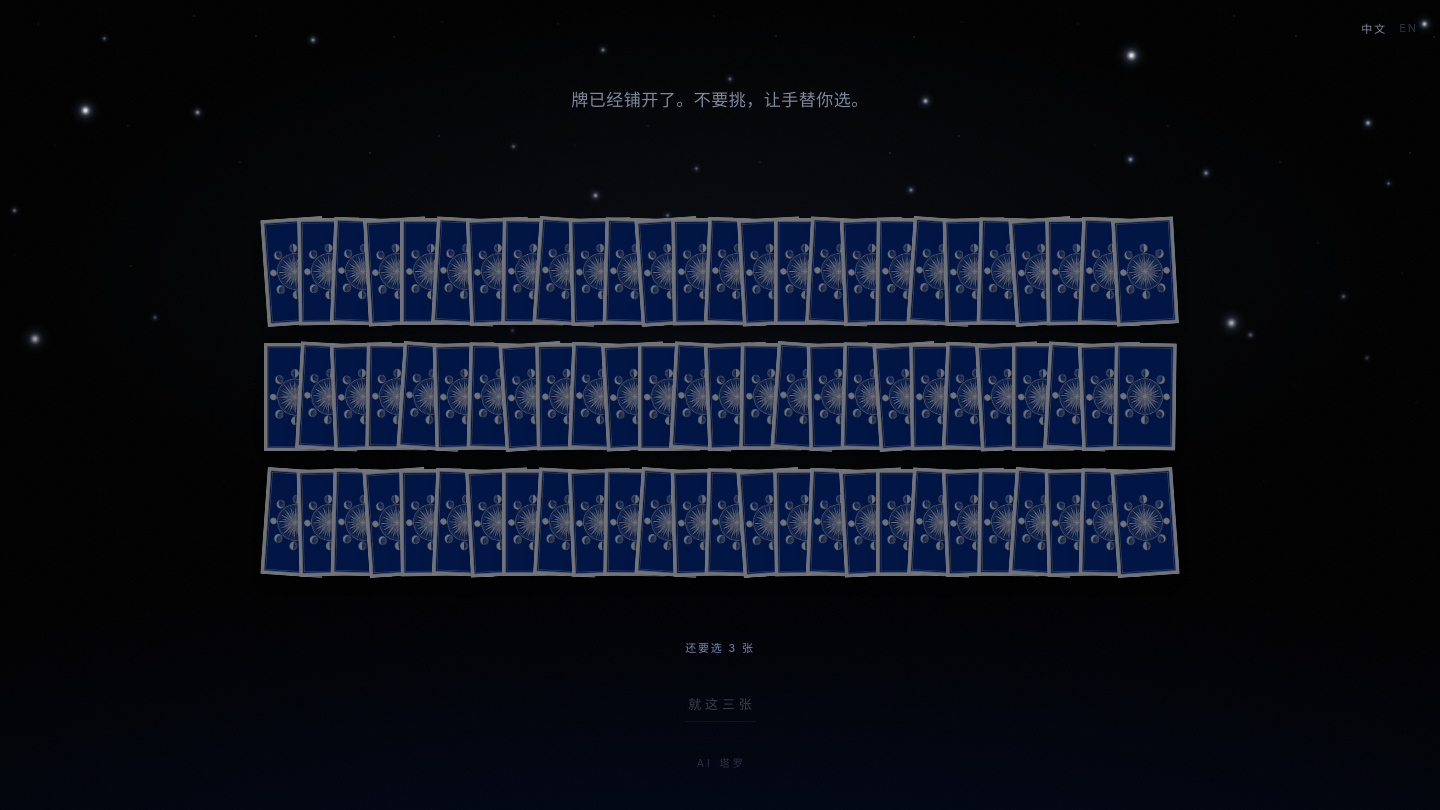
Test: over the spread › lets a mark be taken back off
The image size is (1440, 810).
Expected: the element named "铺开的牌" is shown, [264,184,1176,604]
Click the 4th button with class "taro-fan-card": (397, 272) [363,216,431,327]
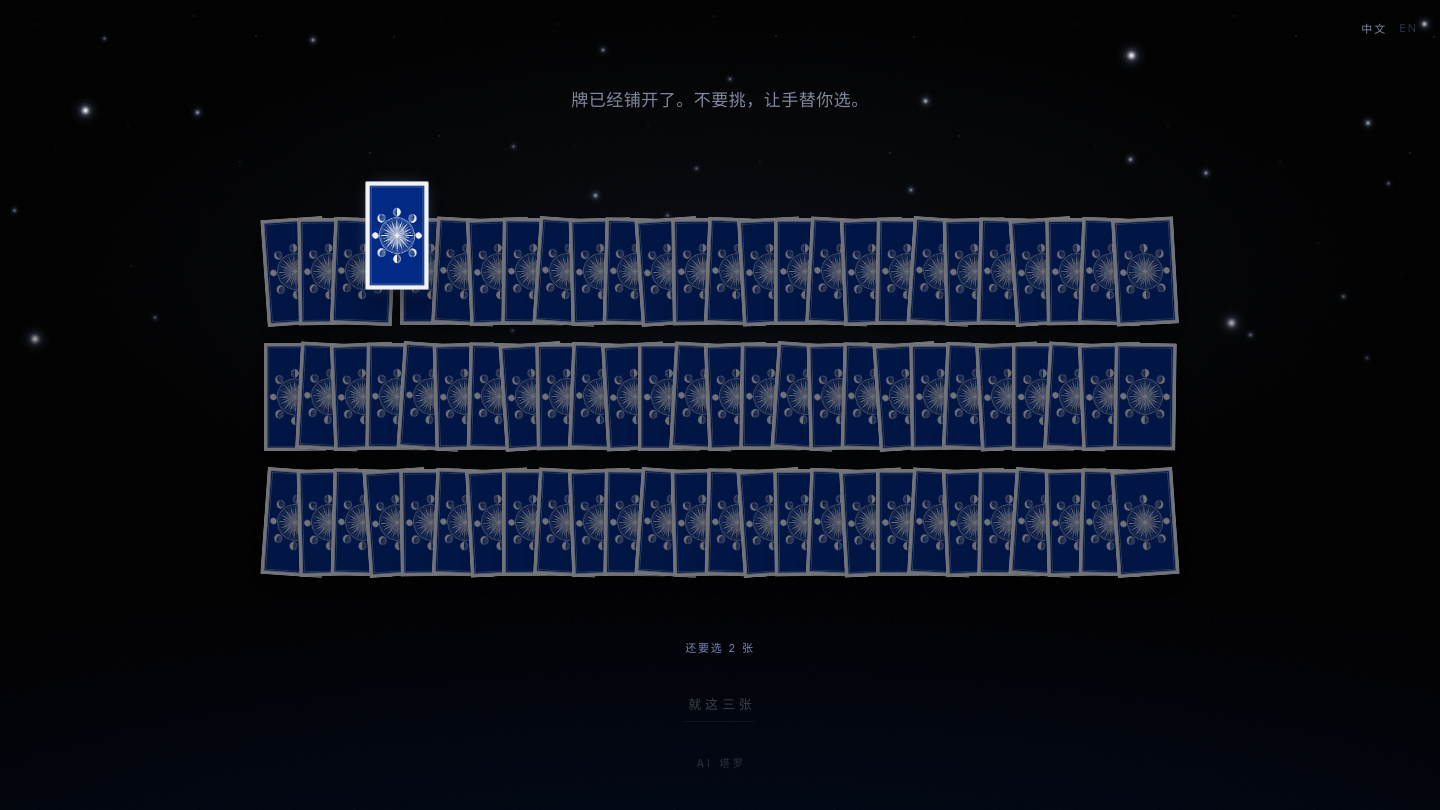
Click the 1st button with class "taro-fan-card": (397, 236) [366,182,428,289]
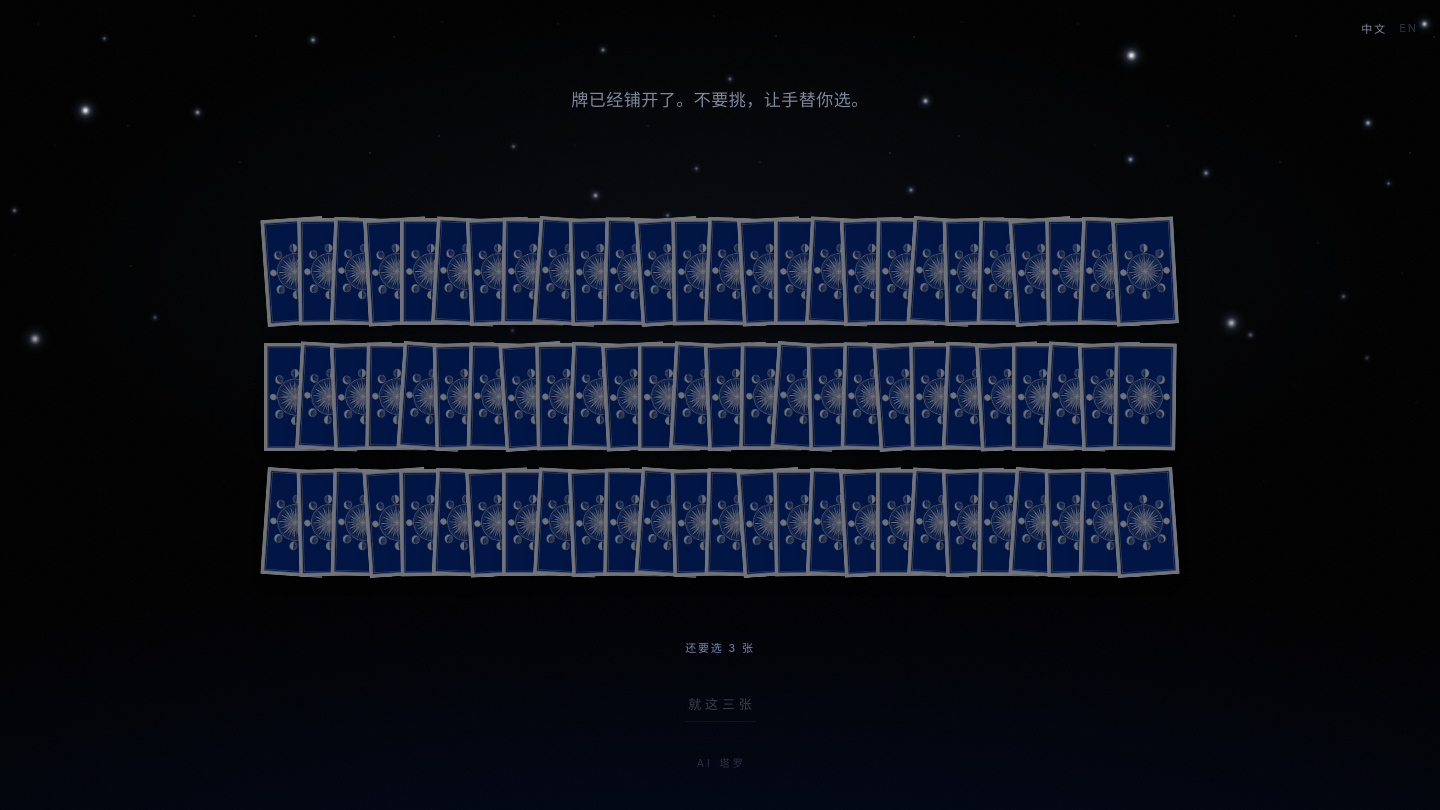
Expected: the text "还要选 3 张" is shown, [685,641,755,655]
